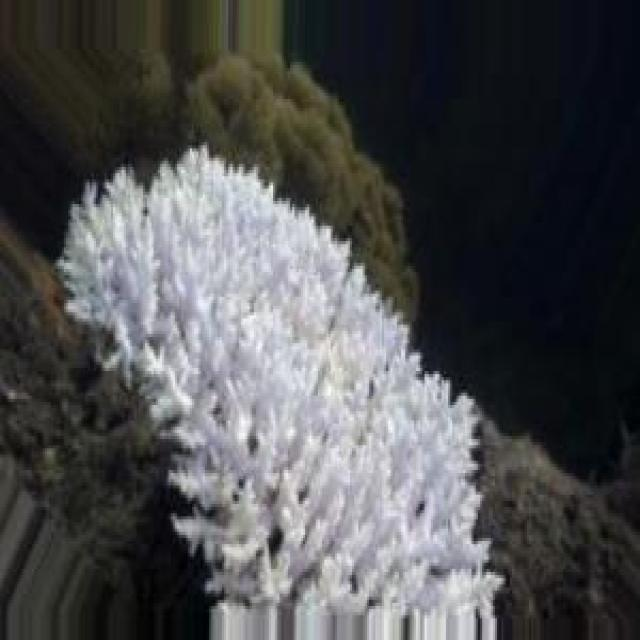Bleached: (61, 150, 500, 639)
